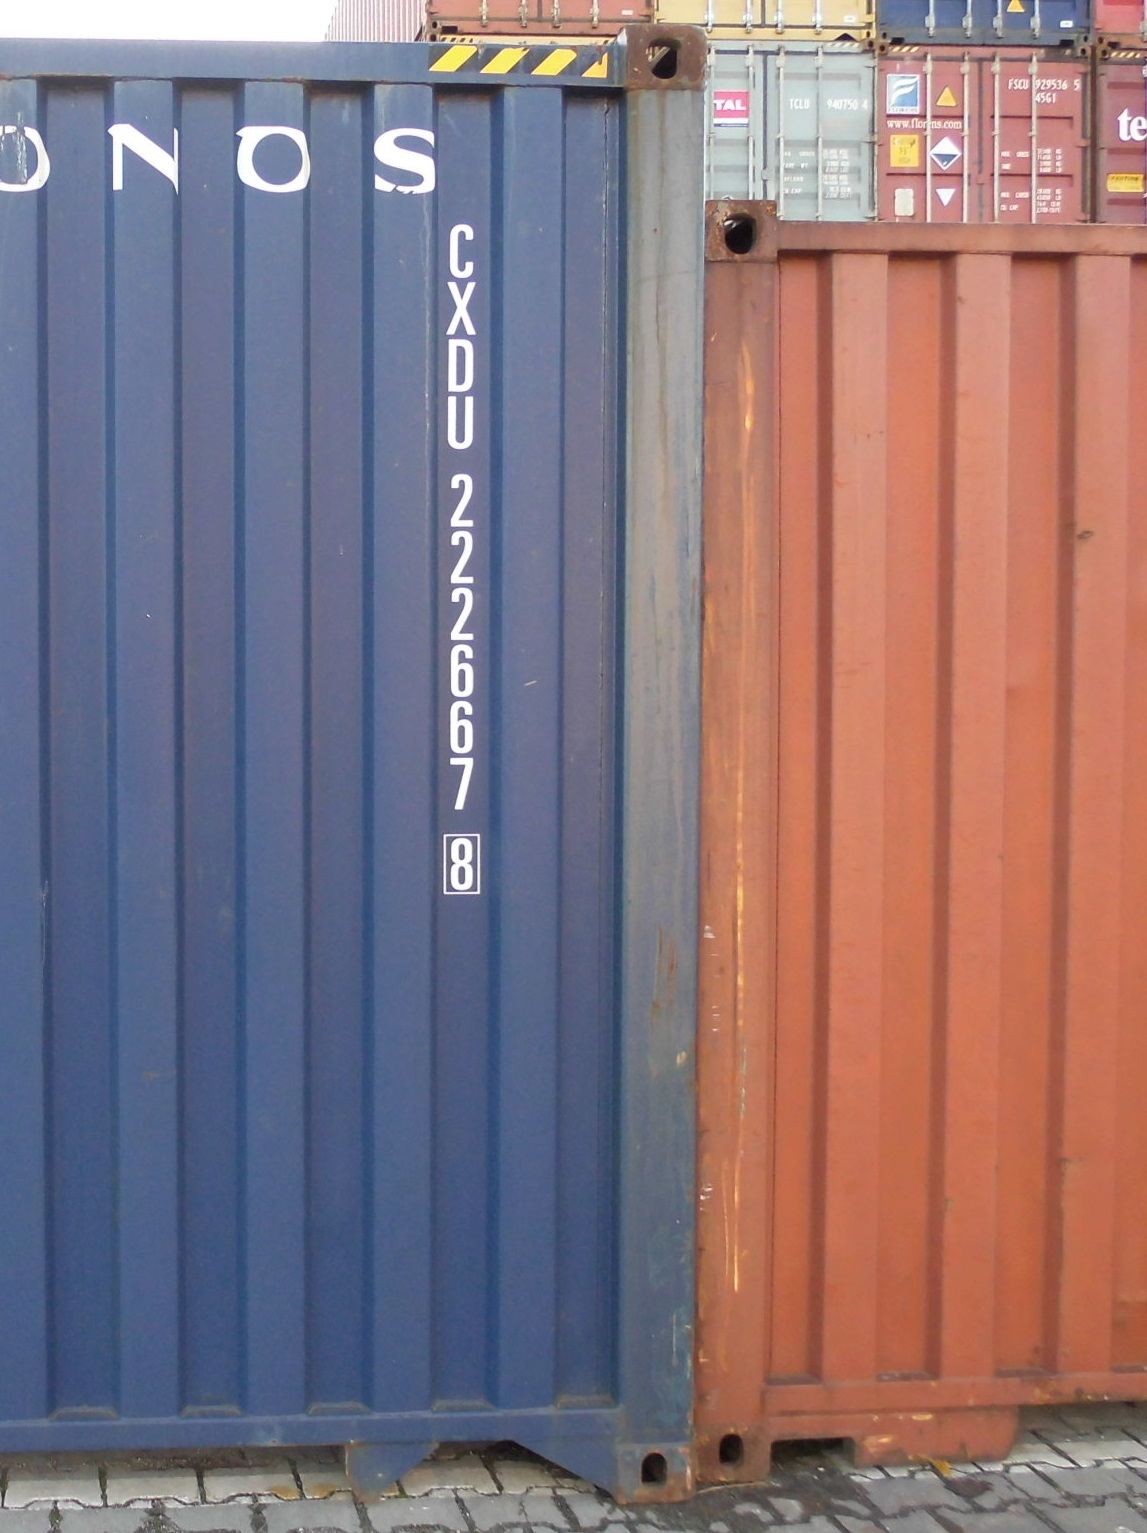container_door: (880, 39, 1092, 222), (702, 40, 877, 216)
container_no_door: (1, 24, 704, 1498), (708, 200, 1147, 1485)
